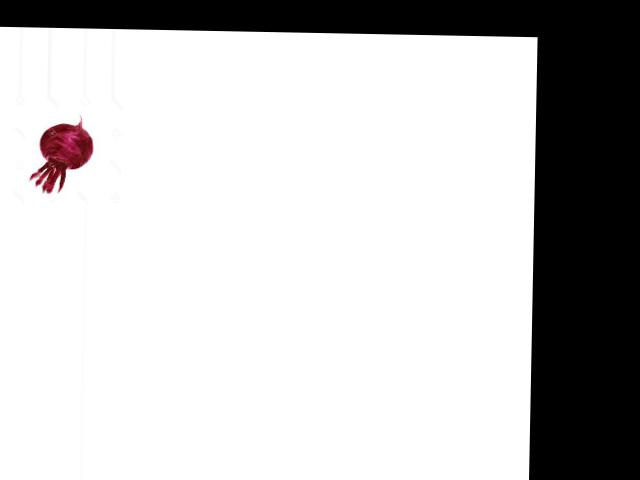beet: (29, 113, 94, 194)
